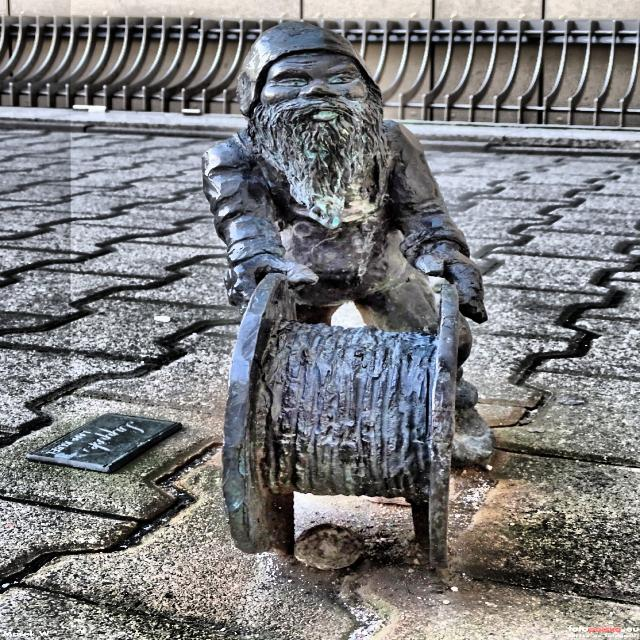Lappek: (203, 20, 493, 571)
